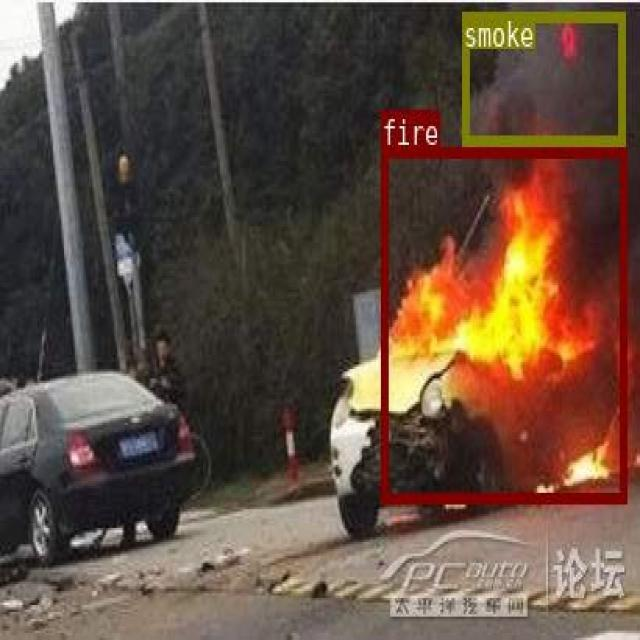fire: (380, 147, 626, 500)
smoke: (462, 10, 624, 143)
